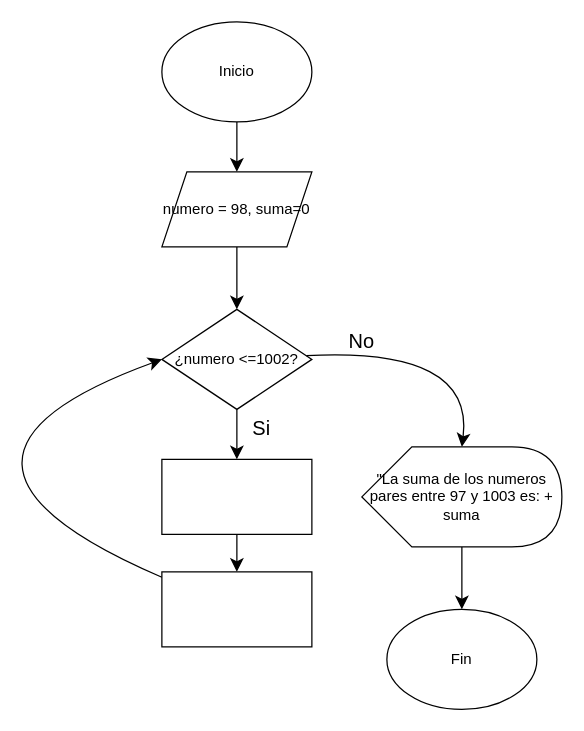
Some shapes in this 584 by 731 pixel diagram are drawn without their labels. Each missing label, with the centre of its shape:
"numero=numero+2" belongs at (236,609).
"suma=suma+numero" belongs at (236,496).
